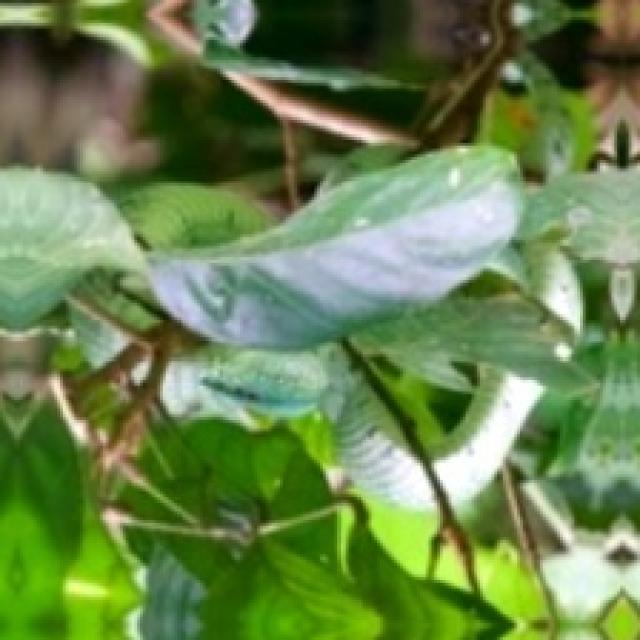north ph temple pitviper: (349, 240, 588, 501), (161, 344, 431, 508), (119, 185, 269, 251), (70, 270, 162, 369)
